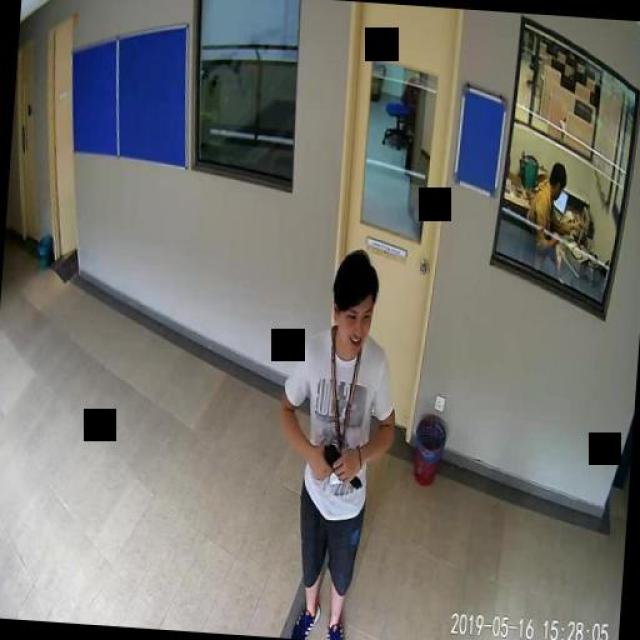gun: (318, 441, 362, 489)
